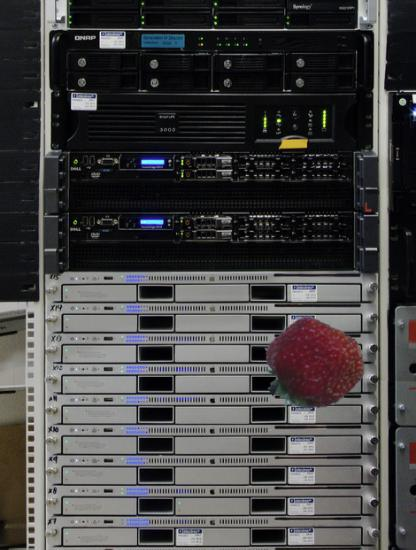Strawberry: (262, 315, 363, 416)
